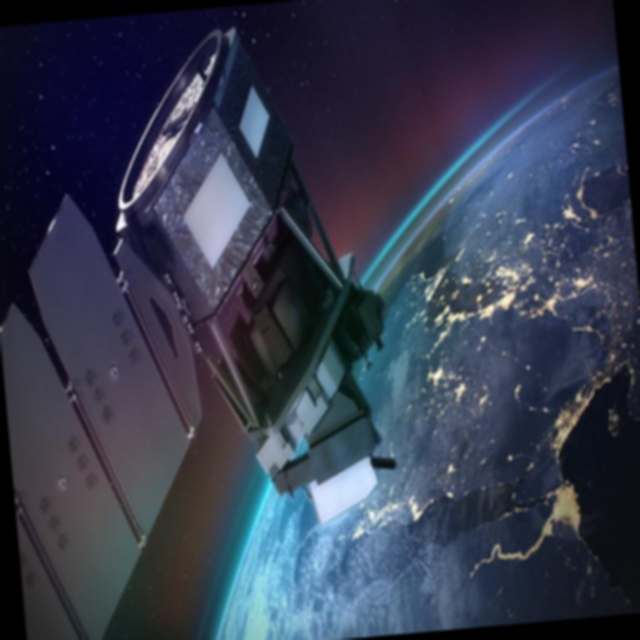satellite: (0, 0, 419, 640)
